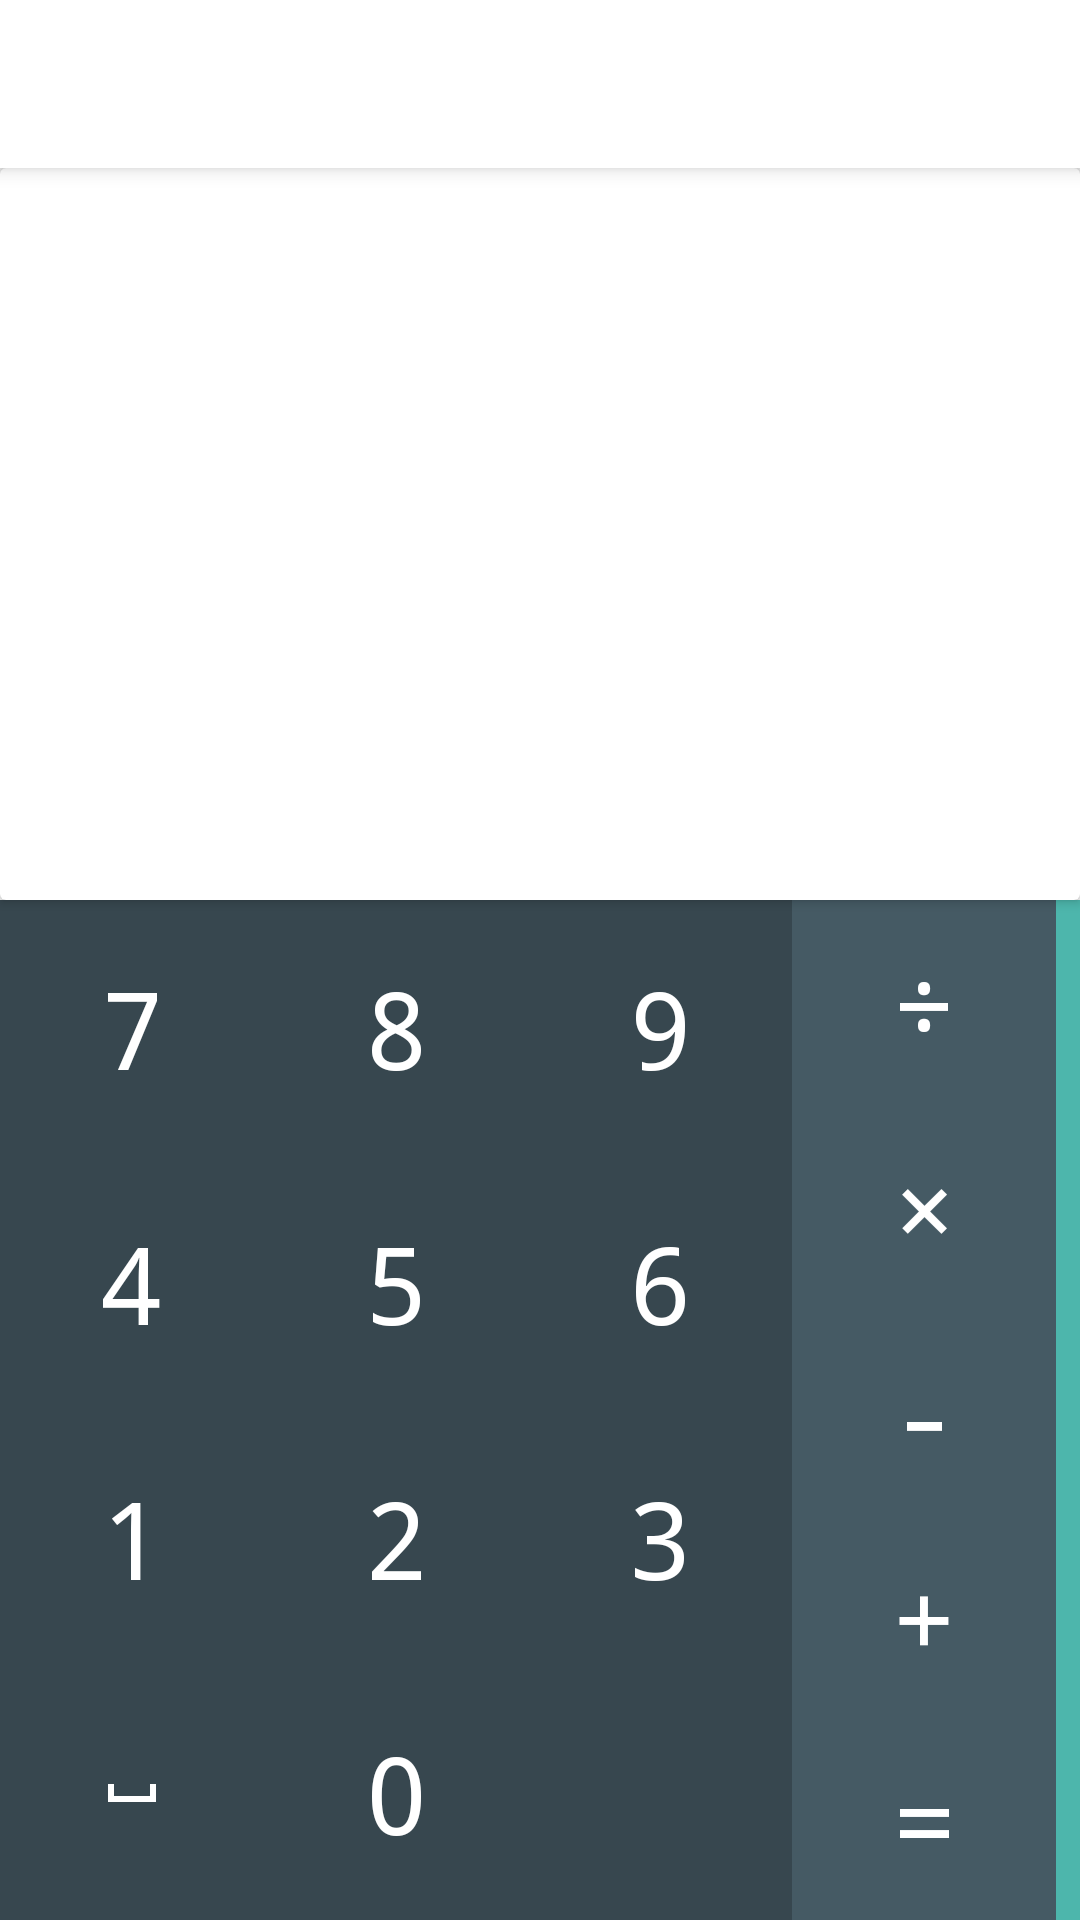

Screen size 1080 × 1920. Icon name, then its center in pixels as point (x, y):
space bar: point (132, 1793)
